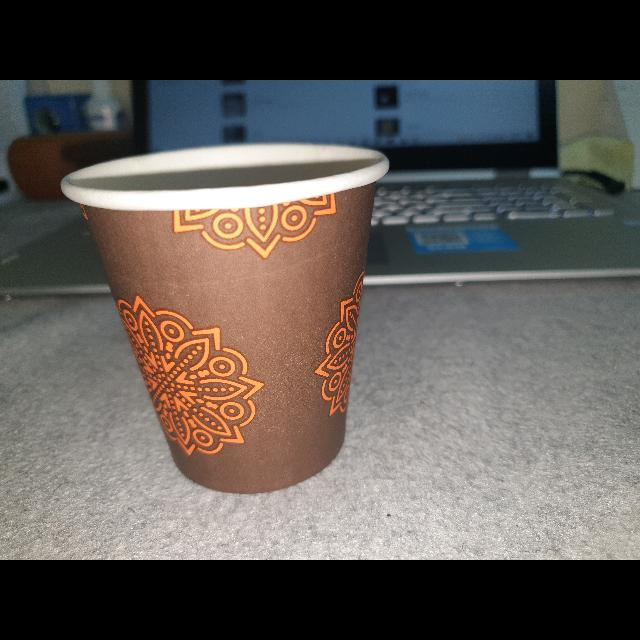trash: (59, 133, 394, 507)
